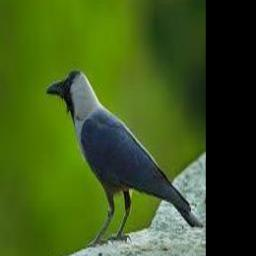Crow: (45, 71, 202, 244)
